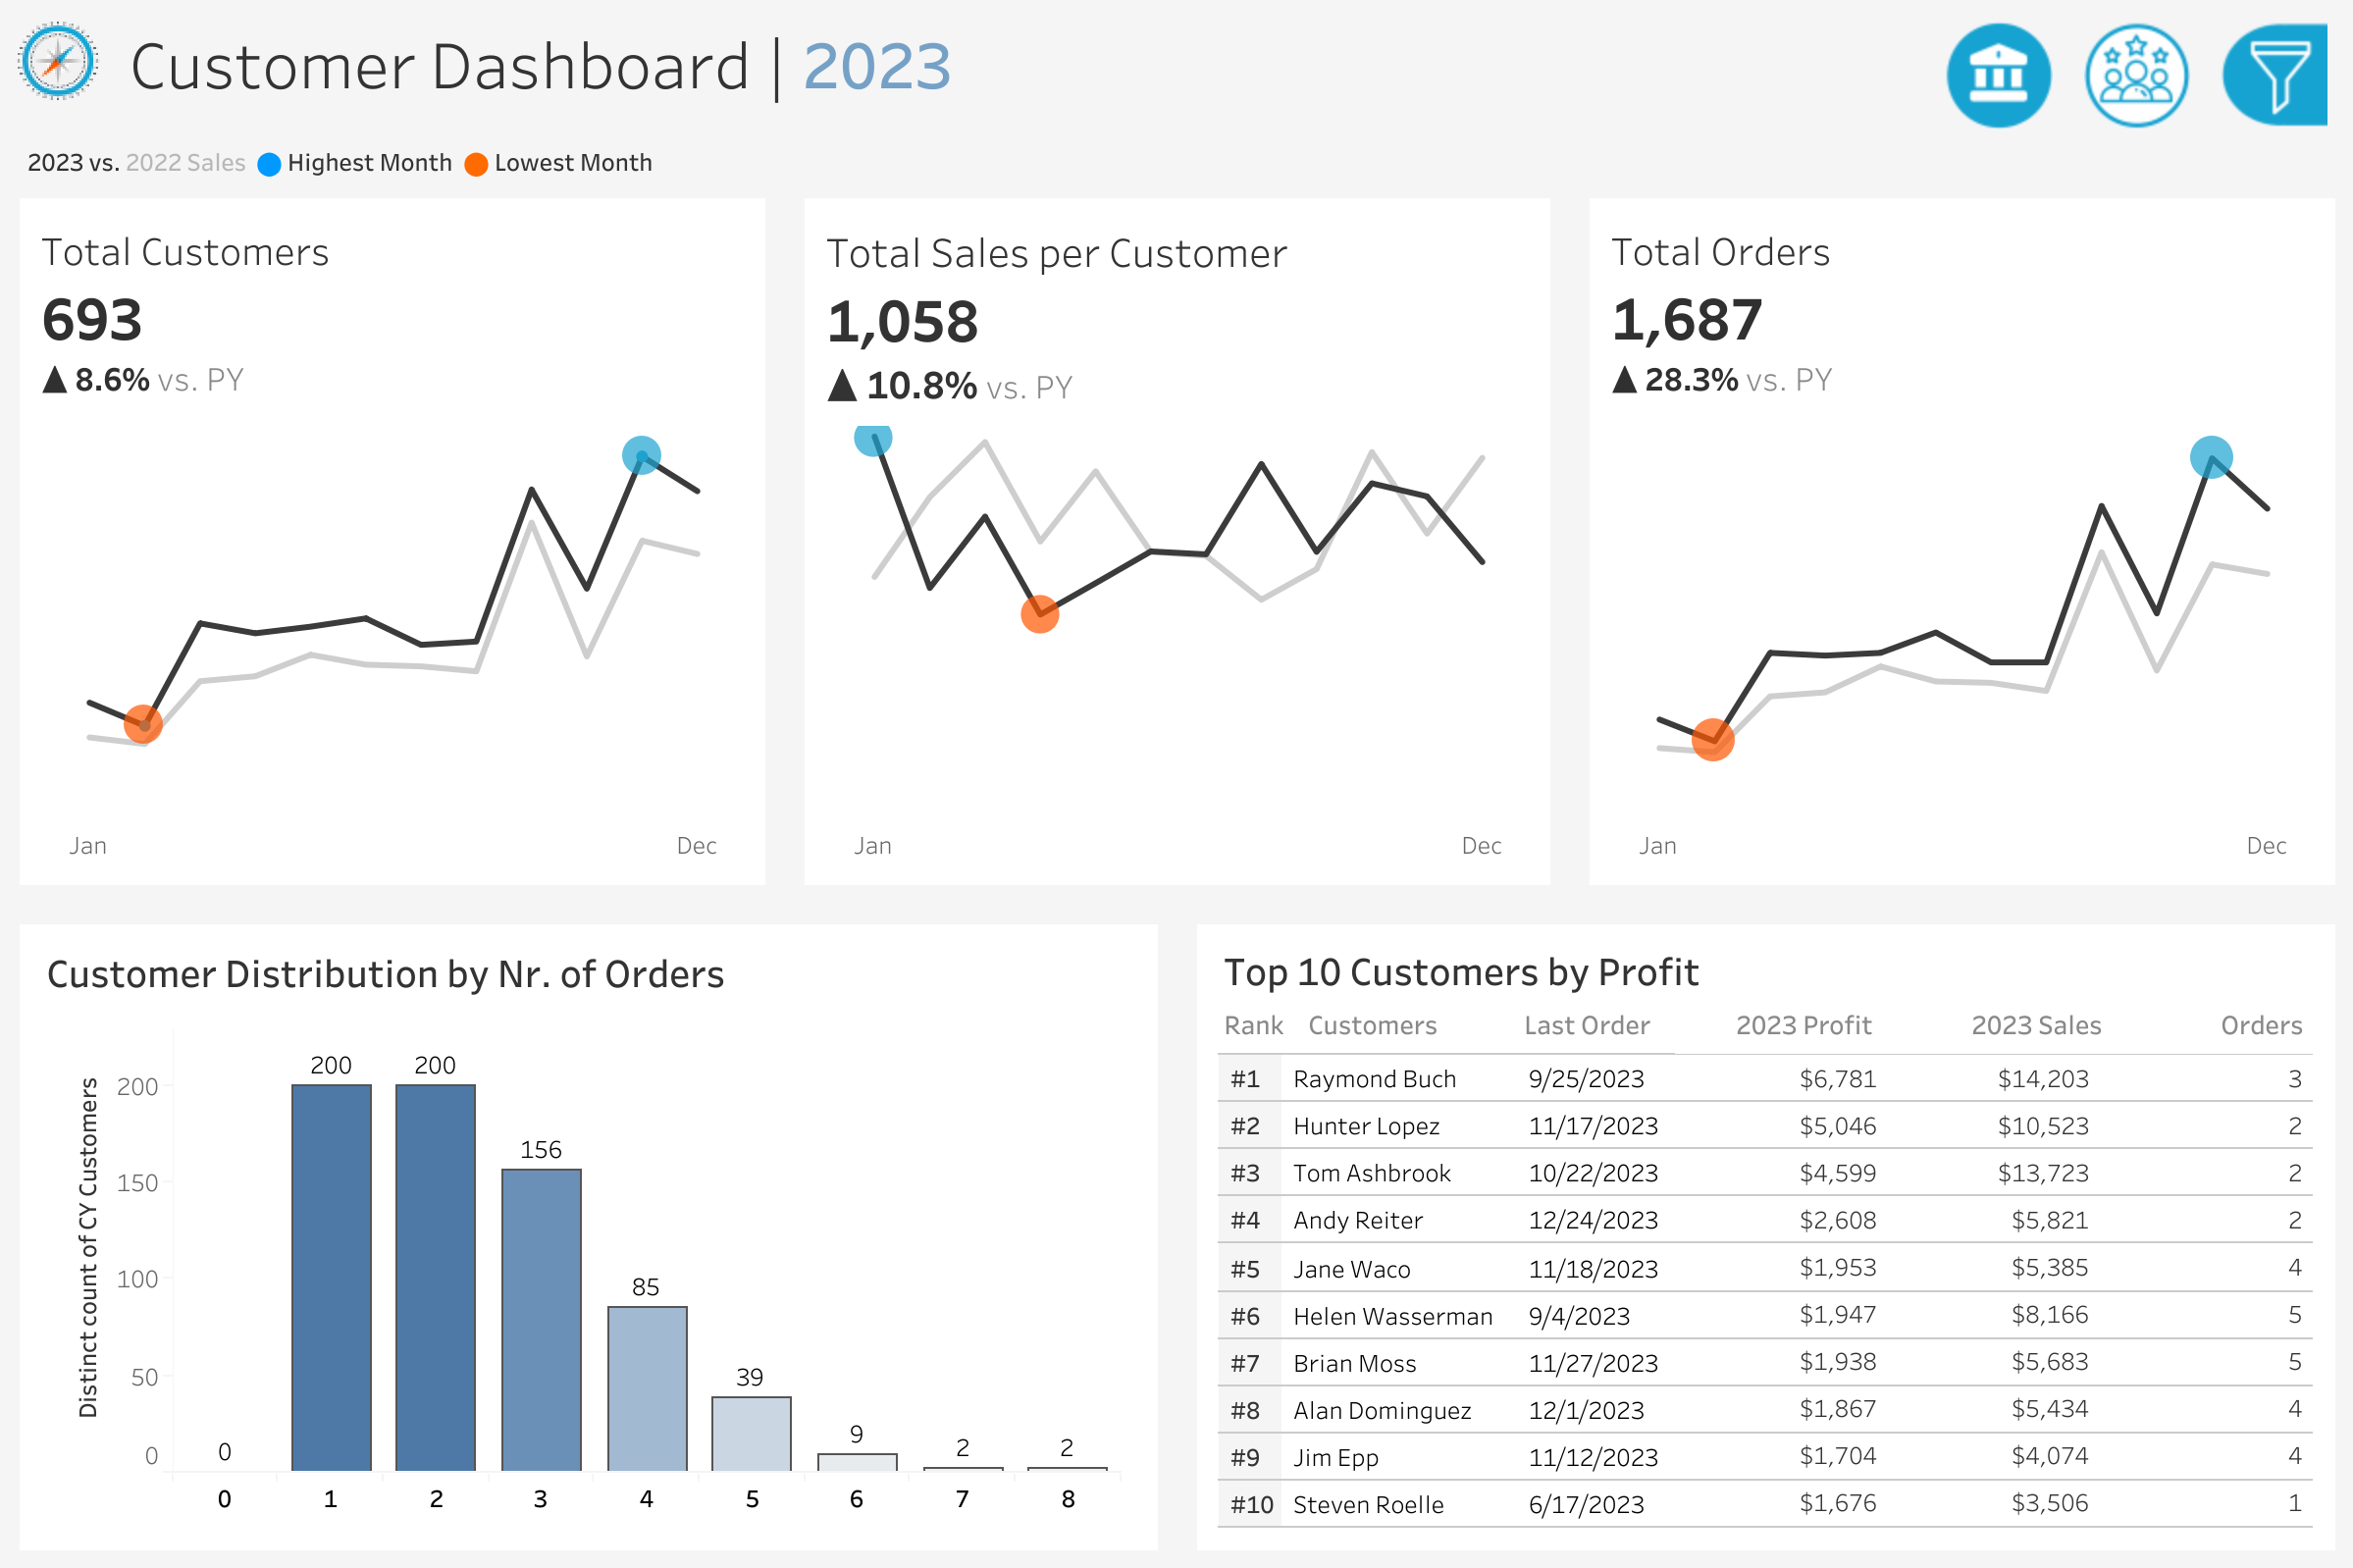

The page's visual inventory and layout, read from the dashboard file:
{"tool":"tableau","page":{"name":"Customer Dashboard","canvas":[1200,800],"ordinal":0},"visuals":[{"type":"image","param":"/Users/user/Documents/IT/VIZ/sales-dashboard-project/images/Icon - Logo.png","box":[0,0,59,63]},{"type":"text","box":[59,0,934,63]},{"type":"dashboard-object","box":[983,7,71,63]},{"type":"dashboard-object","box":[1054,7,70,63]},{"type":"dashboard-object","box":[1124,7,70,63]},{"type":"blank","box":[997,11,186,89]},{"type":"worksheet","title":"Legend KPI","mark":"Automatic","box":[0,63,1200,38]},{"type":"text","box":[997,100,186,32]},{"type":"worksheet","title":"KPI Customers","mark":"Line","rows":["Min/Max Profit (copy)_2164195458314259"],"cols":["Order Date"],"box":[0,101,400,360]},{"type":"worksheet","title":"Total Sales per Customer","mark":"Line","rows":["Calculation_2164201100677150"],"cols":["Order Date"],"box":[400,101,400,360]},{"type":"worksheet","title":"KPI Orders","mark":"Automatic","rows":["Calculation_5052276714455043"],"cols":["Order Date"],"box":[800,101,400,360]},{"type":"parameter","param":"[Parameters].[Parameter 1170579116474375]","box":[997,132,186,52]},{"type":"blank","box":[997,184,186,32]},{"type":"text","box":[997,216,186,29]},{"type":"filter","title":"KPI Customers","param":"[federated.0mg5h581glawp71akunoh1monruf].[none:Category:nk]","box":[997,245,186,52]},{"type":"filter","title":"KPI Customers","param":"[federated.0mg5h581glawp71akunoh1monruf].[none:Sub-Category:nk]","box":[997,297,186,56]},{"type":"text","box":[997,353,186,29]},{"type":"filter","title":"KPI Customers","param":"[federated.0mg5h581glawp71akunoh1monruf].[none:Region:nk]","box":[997,382,186,52]},{"type":"filter","title":"KPI Customers","param":"[federated.0mg5h581glawp71akunoh1monruf].[none:State:nk]","box":[997,434,186,52]},{"type":"text","box":[17,478,566,34]},{"type":"text","box":[617,478,566,32]},{"type":"filter","title":"KPI Customers","param":"[federated.0mg5h581glawp71akunoh1monruf].[none:City:nk]","box":[997,486,186,55]},{"type":"text","box":[617,510,43,23]},{"type":"text","box":[660,510,110,23]},{"type":"text","box":[770,510,108,23]},{"type":"text","box":[878,510,120,23]},{"type":"text","box":[998,510,127,23]},{"type":"text","box":[1125,510,58,23]},{"type":"worksheet","title":"Customer Distribution","mark":"Bar","rows":["Calculation_2164195378577420"],"cols":["Calculation_5229092271652867"],"box":[17,512,566,271]},{"type":"worksheet","title":"Top Customers","mark":"Automatic","rows":["Calculation_5229092623536135","Customer Name","Order Date"],"box":[617,533,566,250]}]}

Visuals, with their boxes in screenshot pixels (x1, y1, x2, y2), scaled from the page's 1200x800 canvas onto the 2353x1568 screenshot:
image: Rect(0, 0, 116, 124)
text: Rect(116, 0, 1947, 124)
dashboard-object: Rect(1927, 14, 2066, 137)
dashboard-object: Rect(2066, 14, 2204, 137)
dashboard-object: Rect(2204, 14, 2341, 137)
blank: Rect(1955, 22, 2320, 196)
"Legend KPI" worksheet: Rect(0, 124, 2352, 198)
text: Rect(1955, 196, 2320, 259)
"KPI Customers" worksheet (Line marks): Rect(0, 198, 784, 904)
"Total Sales per Customer" worksheet (Line marks): Rect(784, 198, 1569, 904)
"KPI Orders" worksheet: Rect(1569, 198, 2352, 904)
parameter: Rect(1955, 259, 2320, 361)
blank: Rect(1955, 361, 2320, 423)
text: Rect(1955, 423, 2320, 480)
"KPI Customers" filter: Rect(1955, 480, 2320, 582)
"KPI Customers" filter: Rect(1955, 582, 2320, 692)
text: Rect(1955, 692, 2320, 749)
"KPI Customers" filter: Rect(1955, 749, 2320, 851)
"KPI Customers" filter: Rect(1955, 851, 2320, 953)
text: Rect(33, 937, 1143, 1004)
text: Rect(1210, 937, 2320, 1000)
"KPI Customers" filter: Rect(1955, 953, 2320, 1061)
text: Rect(1210, 1000, 1294, 1045)
text: Rect(1294, 1000, 1510, 1045)
text: Rect(1510, 1000, 1722, 1045)
text: Rect(1722, 1000, 1957, 1045)
text: Rect(1957, 1000, 2206, 1045)
text: Rect(2206, 1000, 2320, 1045)
"Customer Distribution" worksheet (Bar marks): Rect(33, 1004, 1143, 1535)
"Top Customers" worksheet: Rect(1210, 1045, 2320, 1535)
